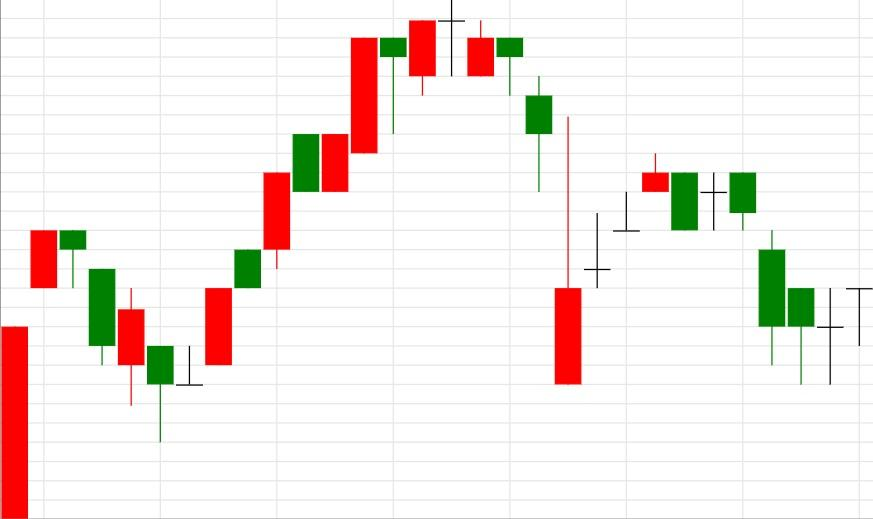hanging_man_fall: (147, 37, 408, 442), (0, 230, 87, 518)
